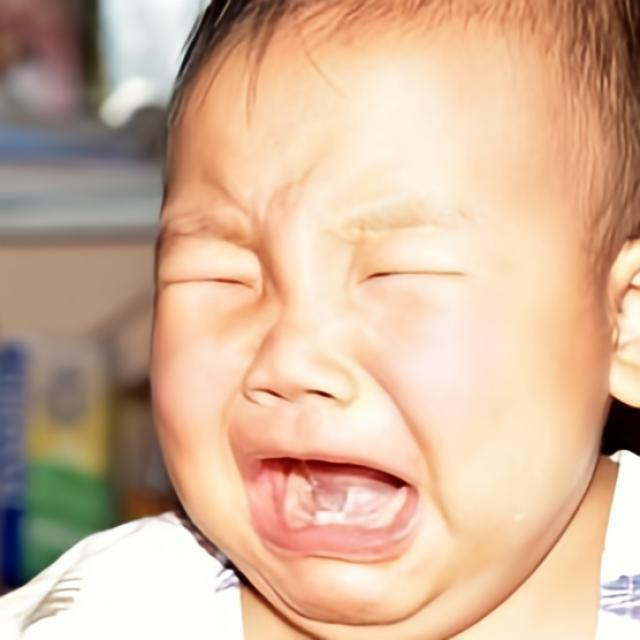sad: (144, 50, 595, 632)
